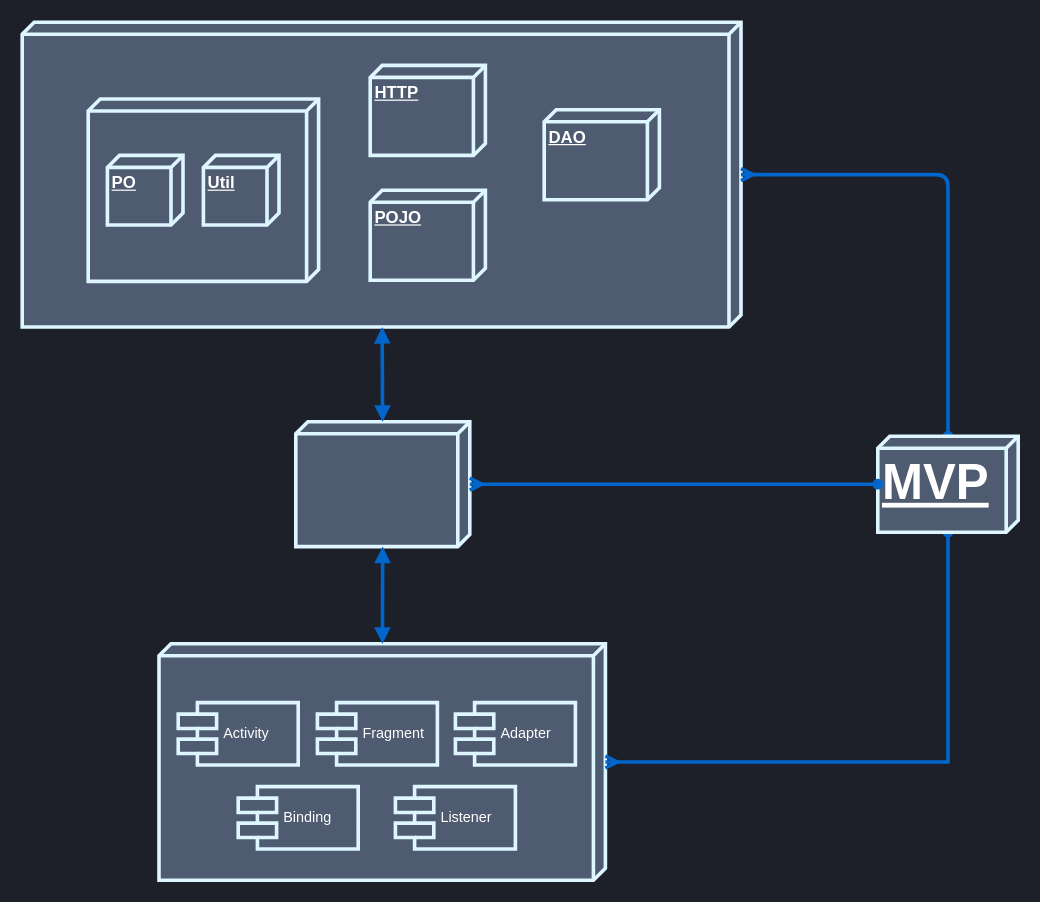
Some shapes in this 1040 by 902 pixel diagram are drawn without their labels. Here are the shapes that lost their labels. From the top down, the box of each, then its label:
(86, 97, 320, 283): Realm
(20, 20, 742, 328): MODEL
(293, 419, 471, 548): PRESENTER
(157, 641, 607, 881): VIEW
